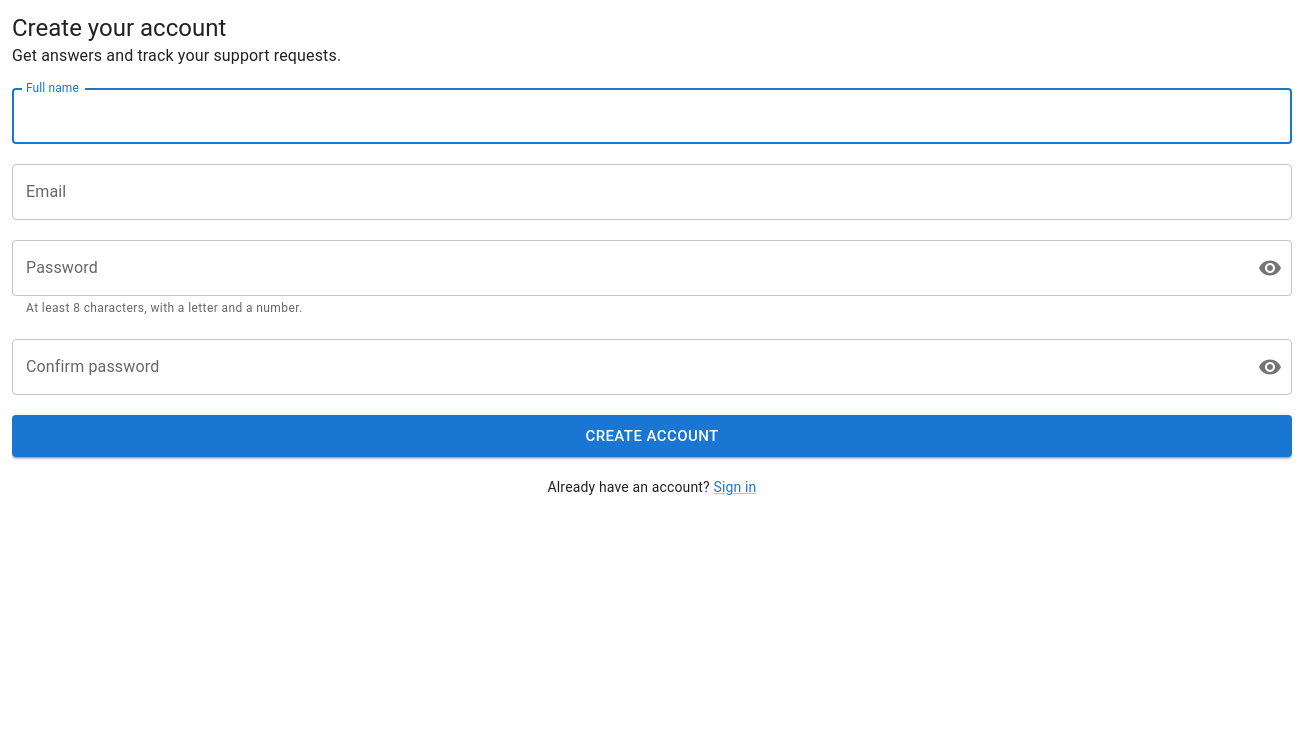
Test: Register page › shows a duplicate email next to the email field
This screenshot has width=1304, height=732.
Type "Casey Customer" into the field labelled "Full name".
click(652, 116); type("Casey Customer")  # box [12,88,1292,144]
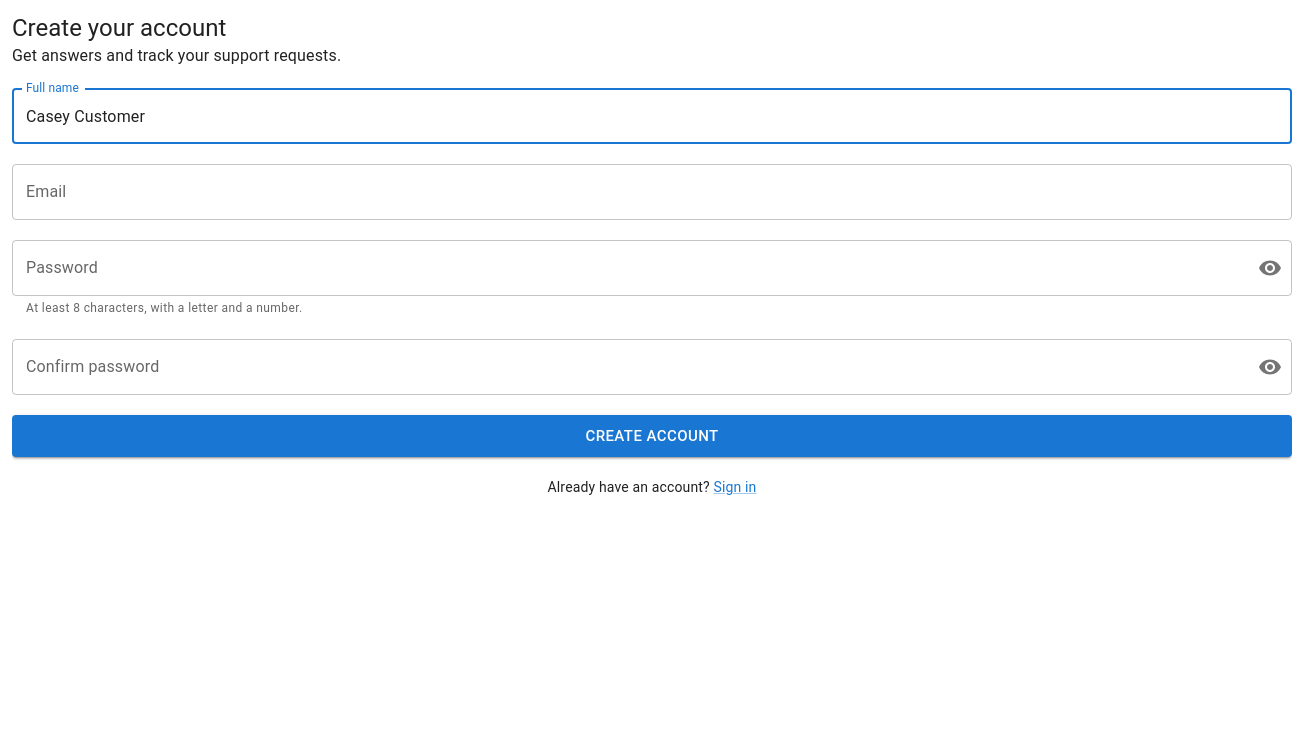
Type "casey@example.com" into the field labelled "Email".
click(652, 192); type("casey@example.com")  # box [12,164,1292,220]
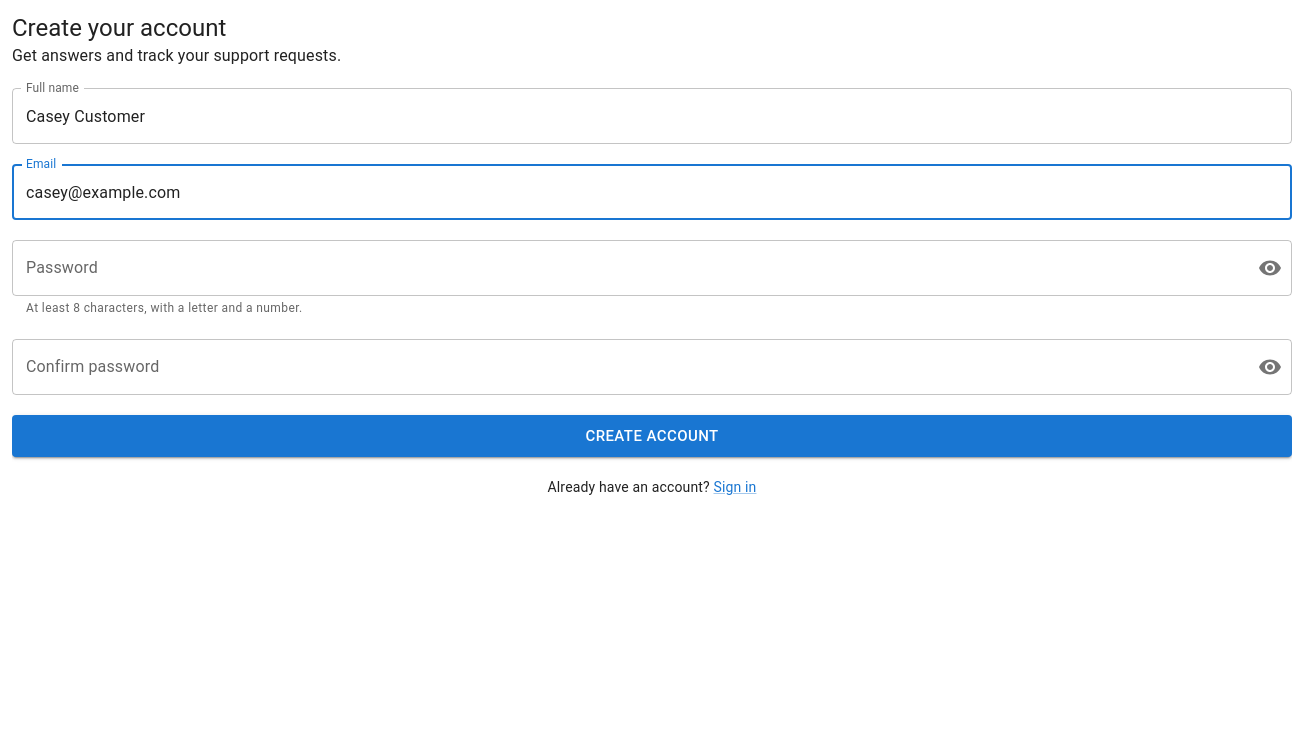
Type "Password123" into the password field labelled "Password".
click(627, 268); type("Password123")  # box [12,240,1242,296]
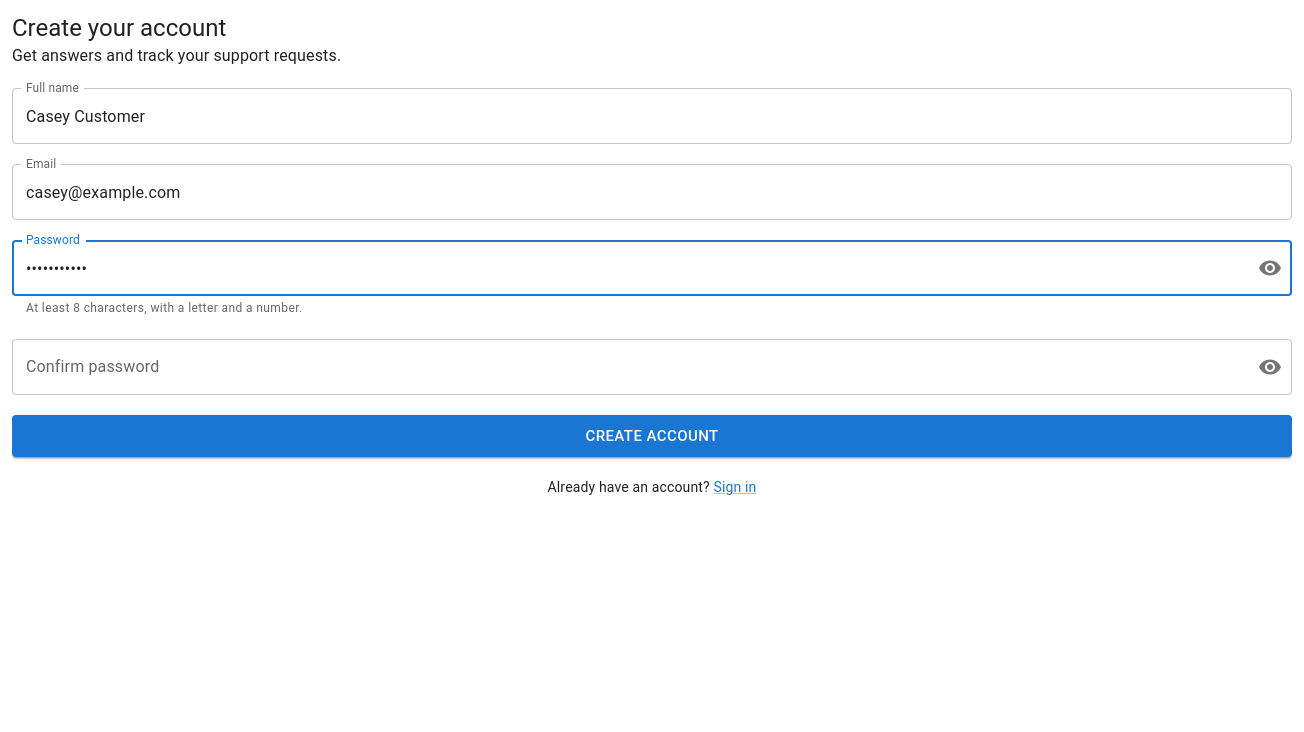
Type "Password123" into the password field labelled "Confirm password".
click(627, 367); type("Password123")  # box [12,339,1242,395]
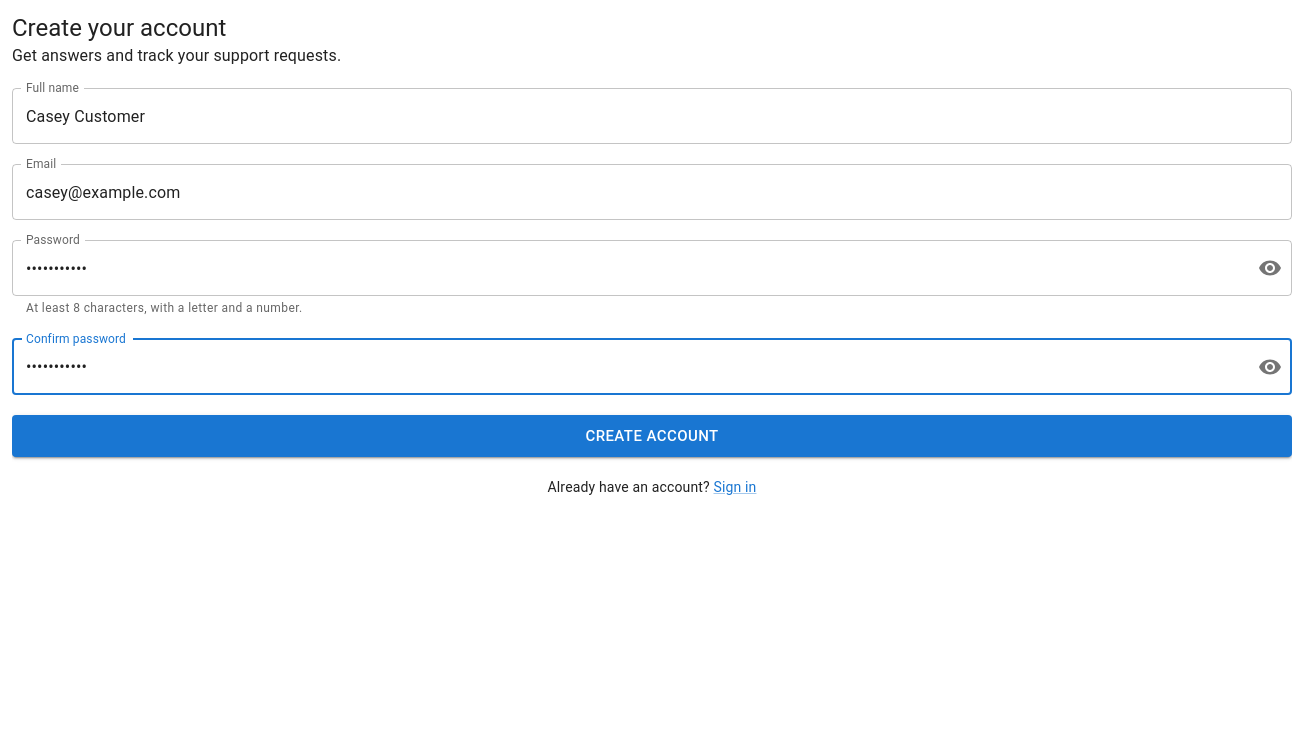
Click the button "Create account".
click(652, 436)  # box [12,415,1292,457]
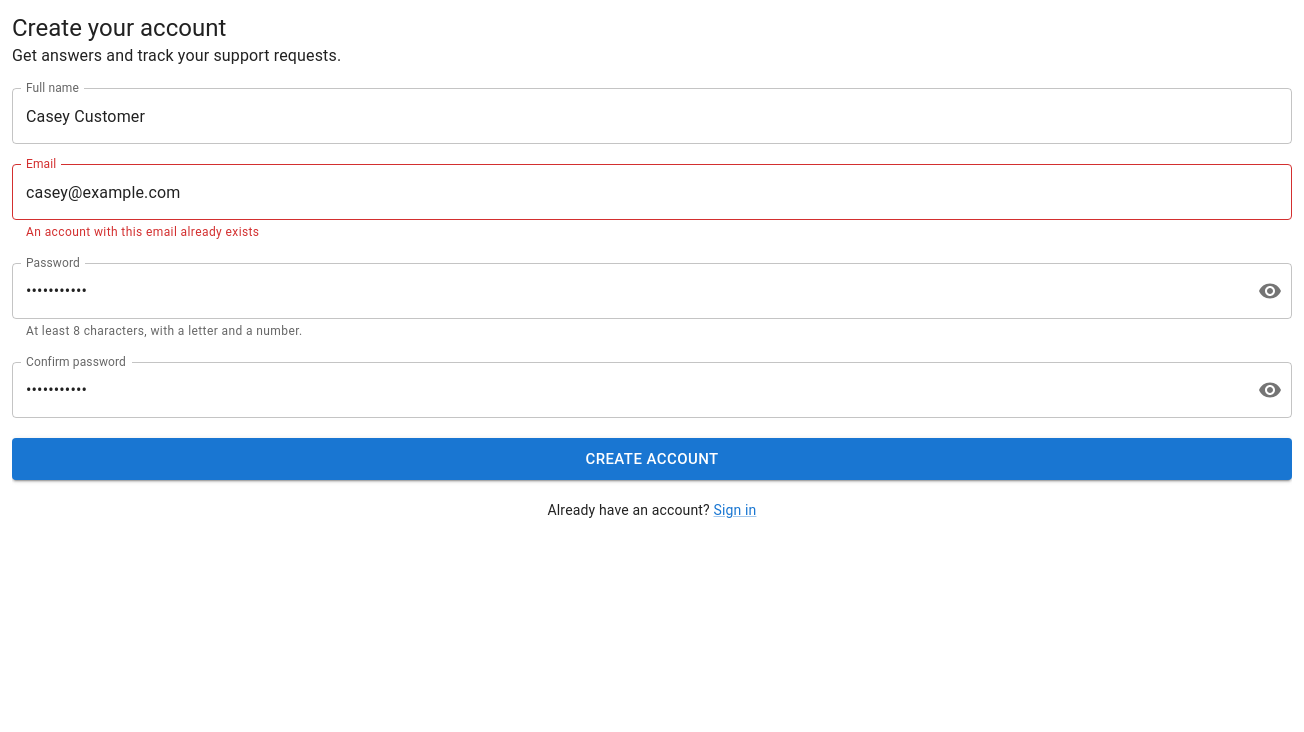
Expected: the text "An account with this email already exists" is shown, [26,225,260,239]
